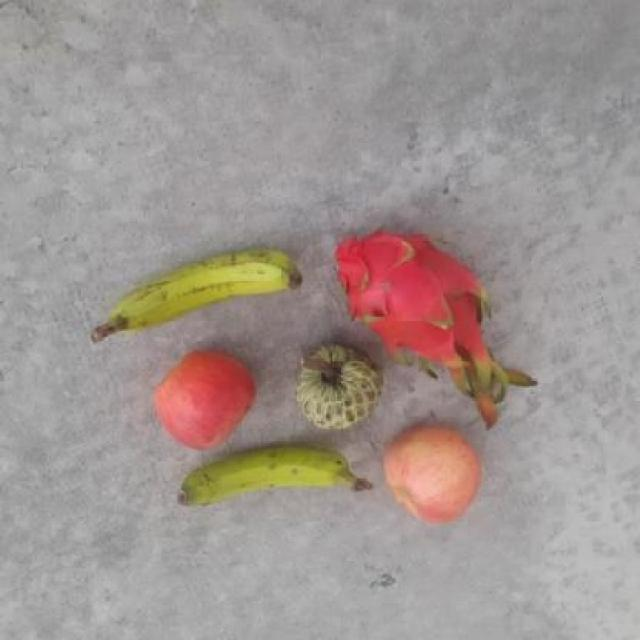apple: (376, 422, 490, 526), (153, 349, 253, 449)
banana: (117, 244, 301, 342), (173, 441, 359, 518)
dragon fruit: (330, 225, 488, 354)
sugar apple: (290, 342, 379, 429)
